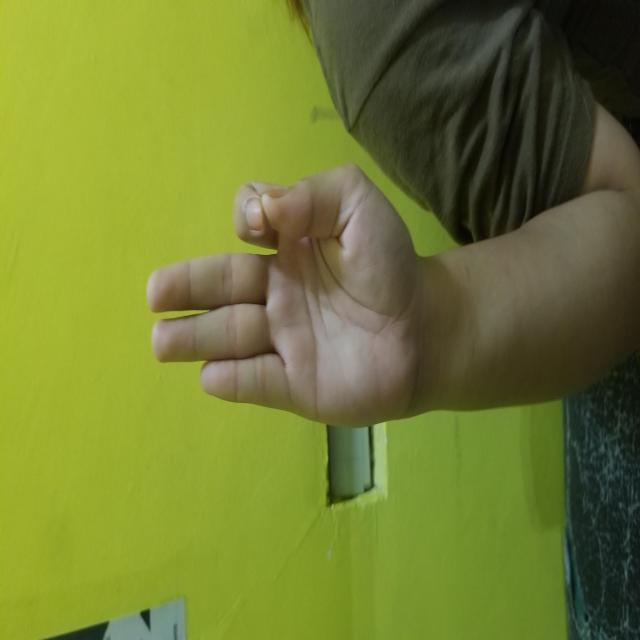F: (211, 146, 476, 415)
